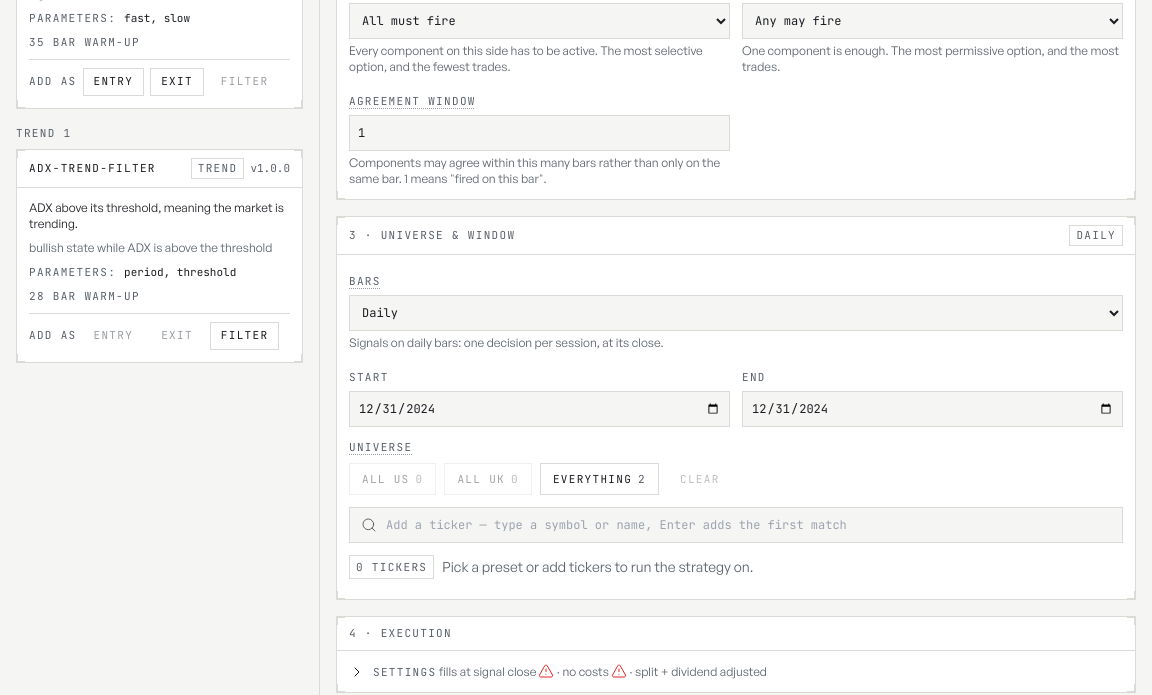
Test: StrategyBuilder › accepts the same rule in the role it does advertise
(page scrolled)
What coordinates should you click on to do the following:
click the button "Filter" below "28"
I would click on:
 (245, 336)
Its box is 210,322 -> 279,350.
(page scrolled)
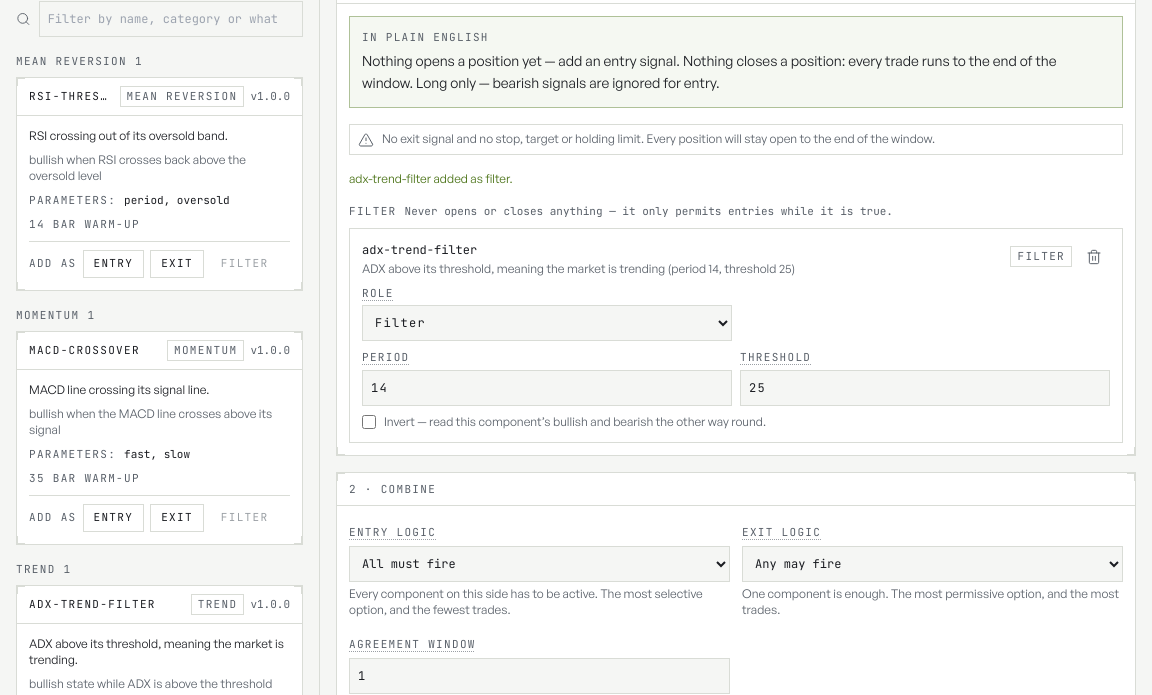
Expected: the list item with test id "component-adx-trend-filter-filter" is shown, 349,228 -> 1123,442
